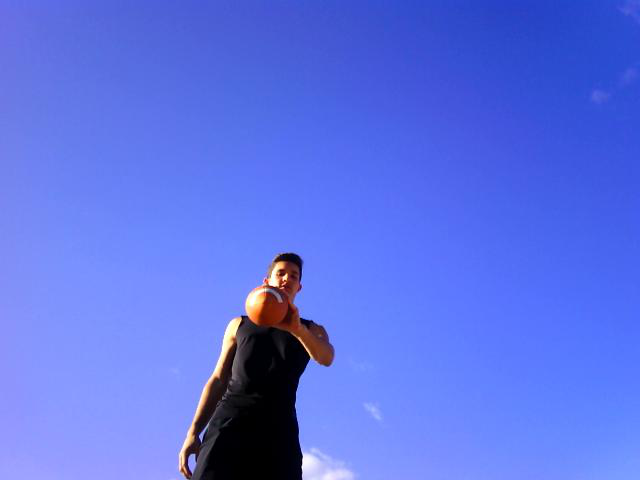footbal: (244, 287, 293, 330)
